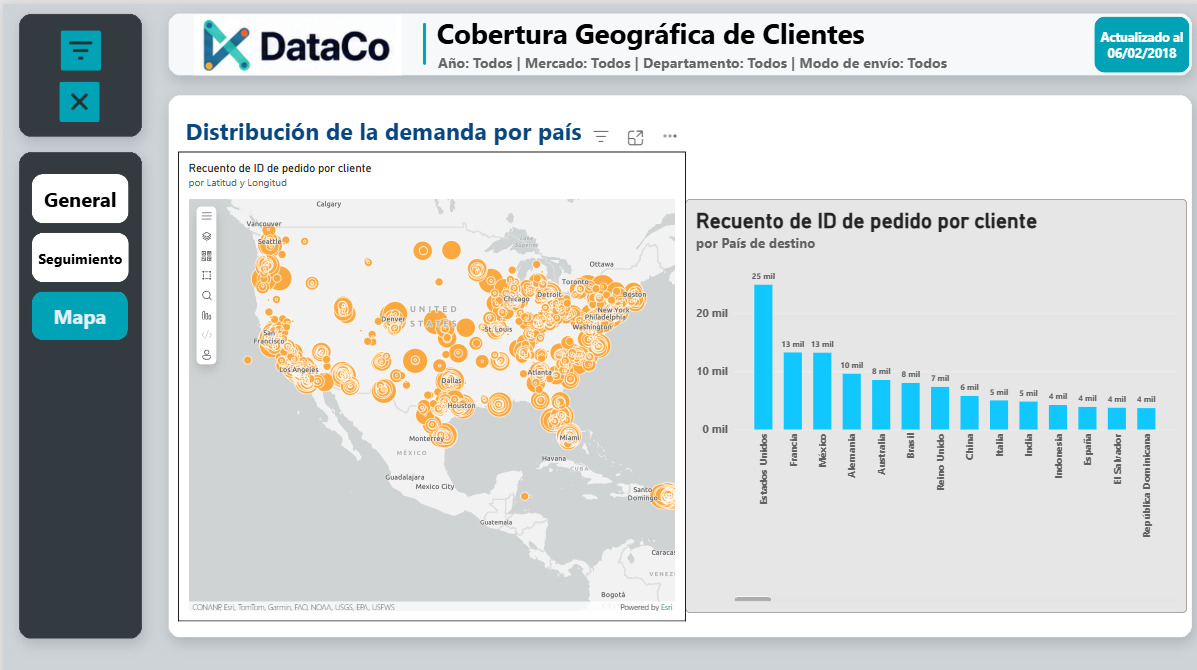

The page's visual inventory and layout, read from the dashboard file:
{"tool":"powerbi","page":{"name":"Mapa","canvas":[1920,1080],"ordinal":3},"visuals":[{"type":"shape","box":[45.7,272.4,155,79],"z":0},{"type":"shape","box":[45.4,366.2,155.4,79.2],"z":1000},{"type":"shape","box":[46,460,154,78],"z":2000},{"type":"actionButton","title":"Btn_close","box":[90.8,123.2,65,65],"z":3000},{"type":"actionButton","title":"Btn_filter","box":[91.1,41.8,65,65],"z":4000},{"type":"map","fields":{"Y":["Dim_Cliente.Latitud"],"X":["Dim_Cliente.Longitud"]},"box":[280,240,1610,747.5],"z":6000},{"type":"image","box":[305.7,18.6,331.4,95.7],"z":8000},{"type":"shape","box":[1745,20,152.5,90],"z":9000},{"type":"actionButton","box":[681.6,8.4,1070,77.5],"z":10000},{"type":"actionButton","box":[684.1,68.4,1210,50],"z":11000},{"type":"actionButton","box":[291.4,165.7,1070,77.1],"z":12000}]}

Visuals, with their boxes on the page's 1920x1080 design canvas (x1, y1, x2, y2). These are canvas units, not pixel positions in the 1197x670 screenshot, which may show the page scaled, cropped or inside an application window:
shape: (x1=46, y1=272, x2=201, y2=351)
shape: (x1=45, y1=366, x2=201, y2=445)
shape: (x1=46, y1=460, x2=200, y2=538)
"Btn_close" actionButton: (x1=91, y1=123, x2=156, y2=188)
"Btn_filter" actionButton: (x1=91, y1=42, x2=156, y2=107)
map - Dim_Cliente.Latitud x Dim_Cliente.Longitud: (x1=280, y1=240, x2=1890, y2=988)
image: (x1=306, y1=19, x2=637, y2=114)
shape: (x1=1745, y1=20, x2=1898, y2=110)
actionButton: (x1=682, y1=8, x2=1752, y2=86)
actionButton: (x1=684, y1=68, x2=1894, y2=118)
actionButton: (x1=291, y1=166, x2=1361, y2=243)
